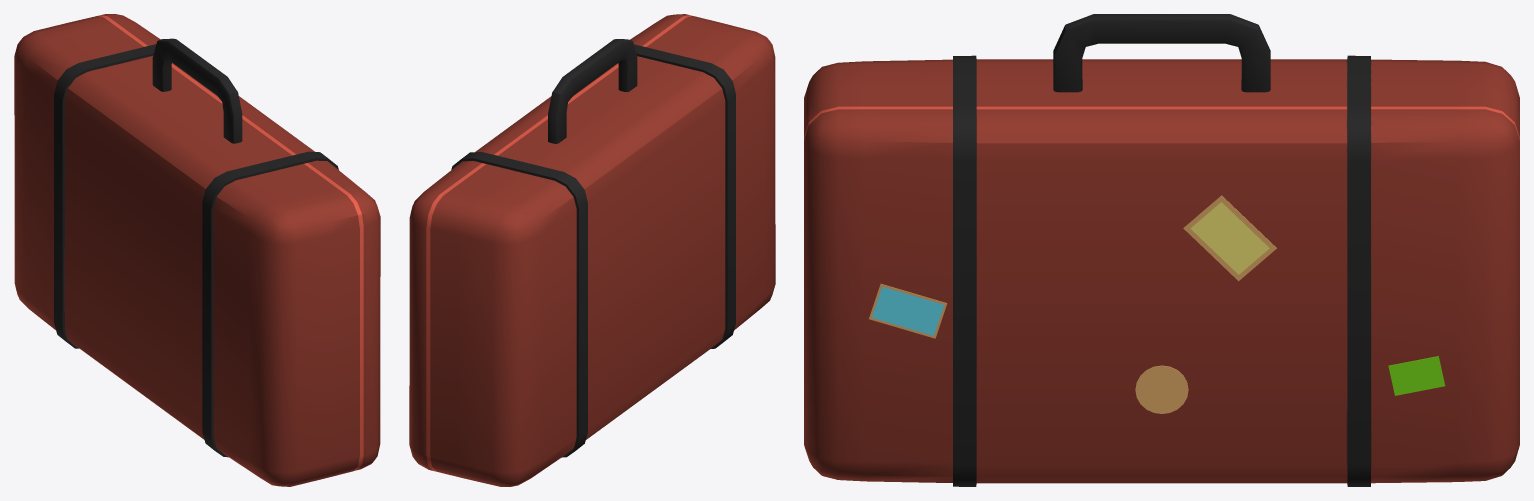
Rendered from Suitcase (1).fbx.
3 renders of one model, left to right at view 1: azimuth 30°, elevation 25°; view 2: azimuth 150°, elevation 25°; view 3: azimuth 270°, elevation 25°, orthographic. The views are drawn at different scales.
Visible parts, largest first — view 1: Suitcase_Suitcase_texture_0; view 2: Suitcase_Suitcase_texture_0; view 3: Suitcase_Suitcase_texture_0.
Boxes of the visible parts, x1,y1,x2,y2 form: Suitcase_Suitcase_texture_0: (14, 14, 380, 486); Suitcase_Suitcase_texture_0: (409, 14, 775, 486); Suitcase_Suitcase_texture_0: (804, 14, 1519, 486).
Bounding box in the file's own units: 39.61 × 96.34 × 142.
1 material, 1 textured.
